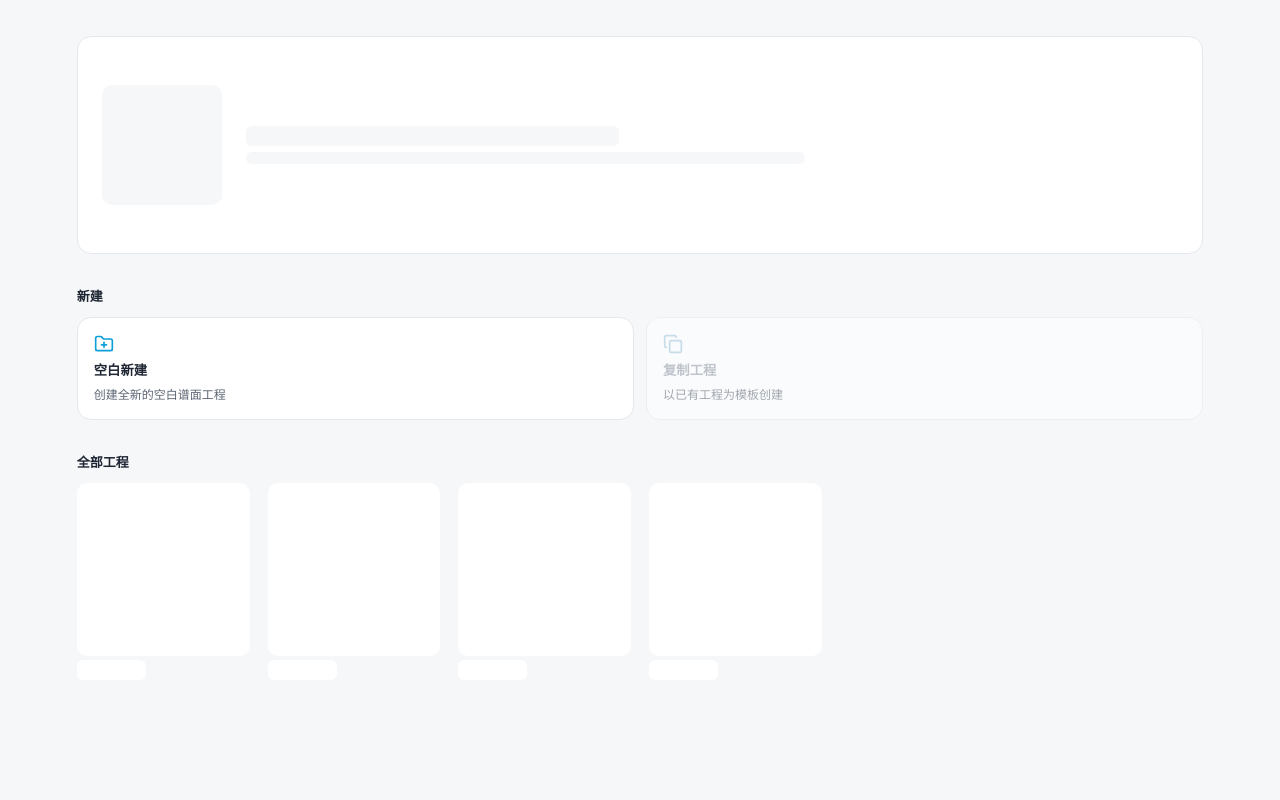
issue 23 #1 · 空白新建后的落点 › 留在工程管理页，且新工程同时成为当前工程与详情视图
Expected: the heading "全部工程" is shown, [77,452,129,471]
Click the button "空白新建 创建全新的空白谱面工程" at (120, 370), box [77,317,634,420]
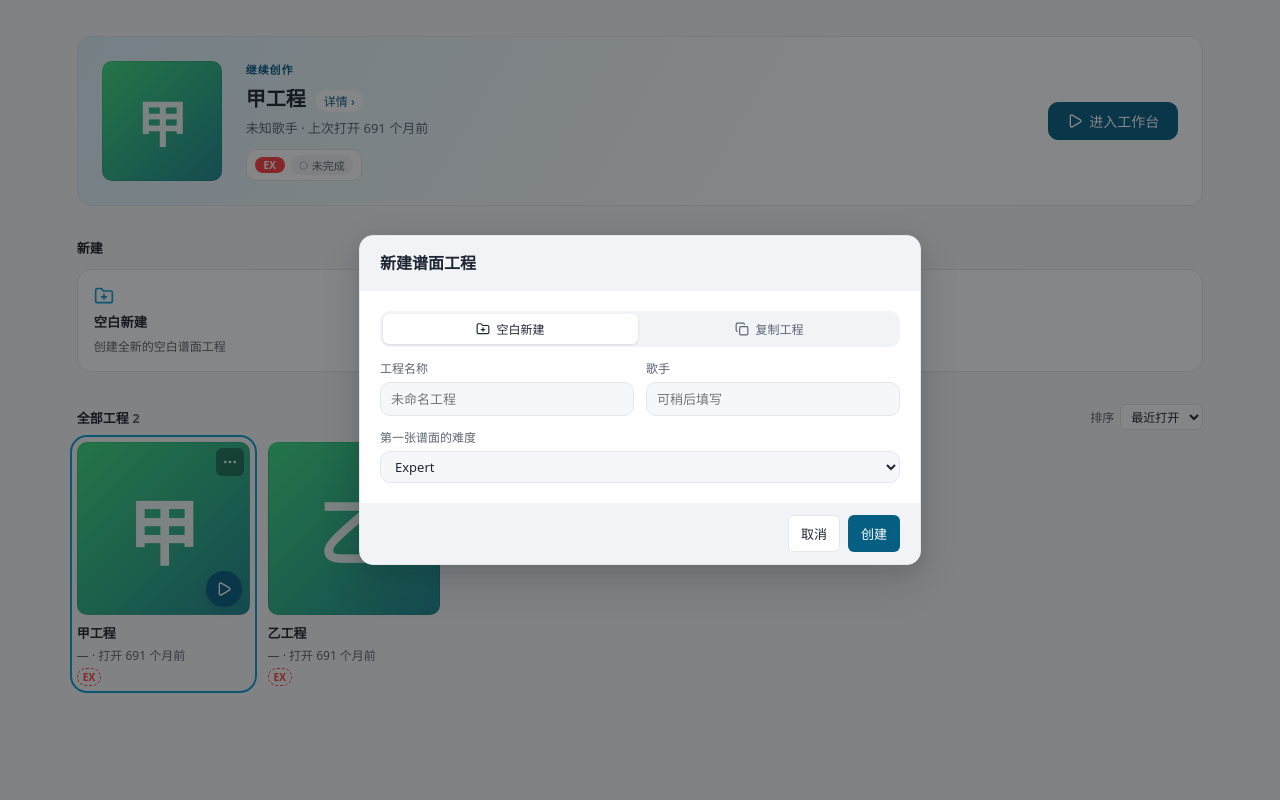
Expected: the dialog is shown, [359,235,921,565]
Expected: the button "创建" is enabled
Click the button "创建" at (874, 533), box [848,515,900,552]
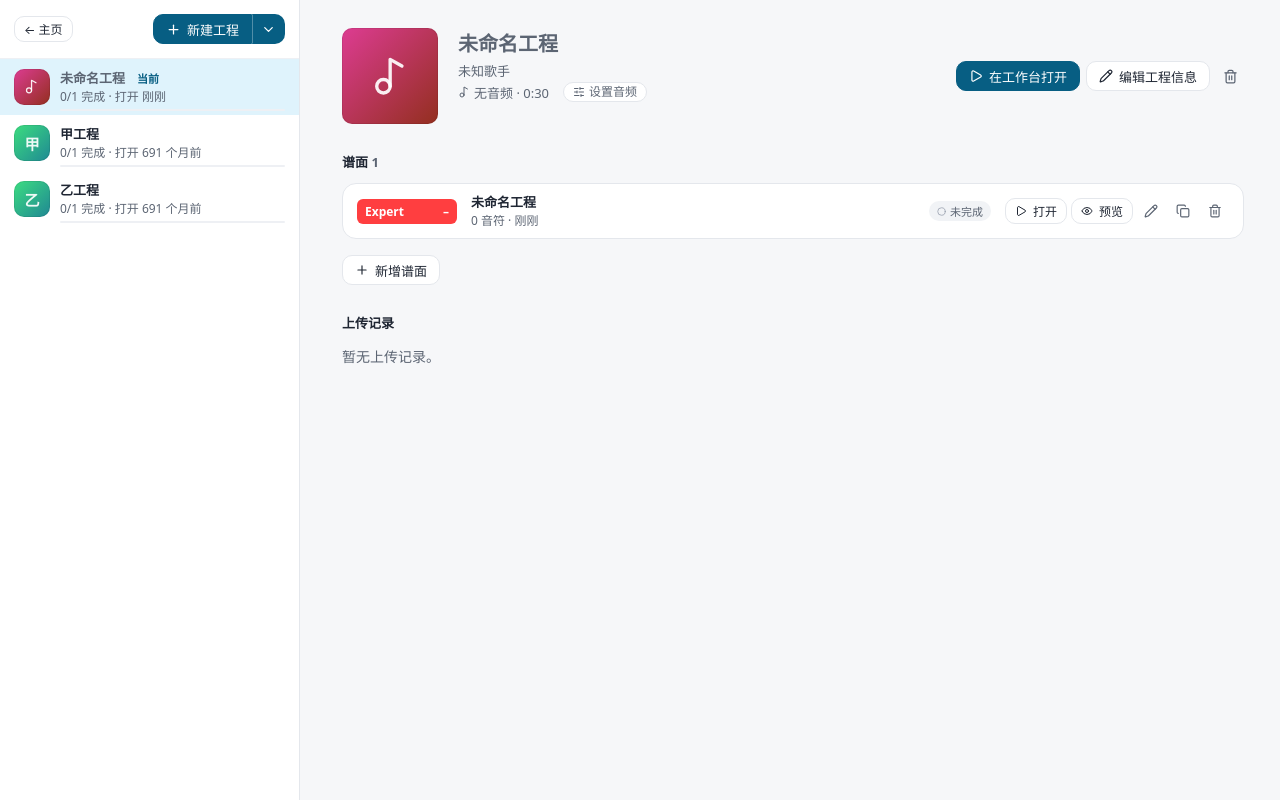
Expected: the heading "未命名工程" is shown, [458,30,558,57]
